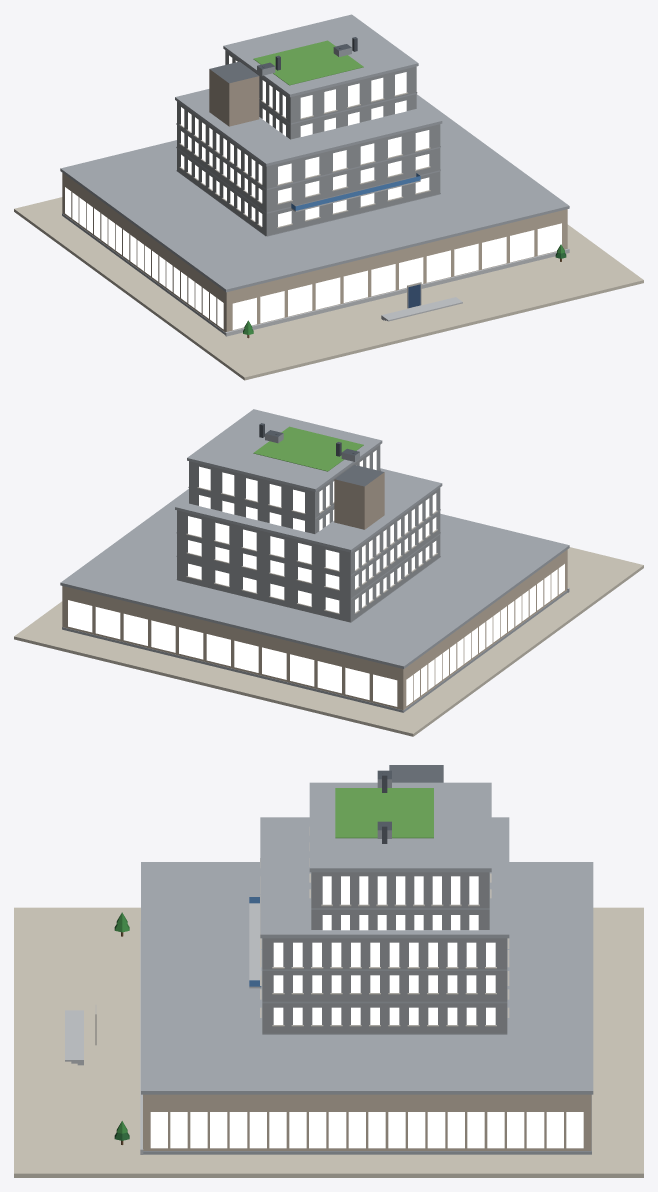
3 renders of one model, top to bottom at view 1: azimuth 30°, elevation 25°; view 2: azimuth 150°, elevation 25°; view 3: azimuth 270°, elevation 25°, orthographic. The views are drawn at different scales.
Parts seen in each view (by area): view 1: b05_x4; view 2: b05_x4; view 3: b05_x4.
Boxes of the visible parts, x1,y1,x2,y2 form: b05_x4: (14,14,643,380); b05_x4: (14,409,643,736); b05_x4: (14,765,643,1177).
Bounding box in the file's own units: 3.96 × 1.74 × 3.96.
